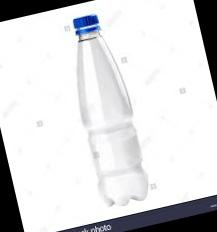plastic: (37, 0, 166, 215)
